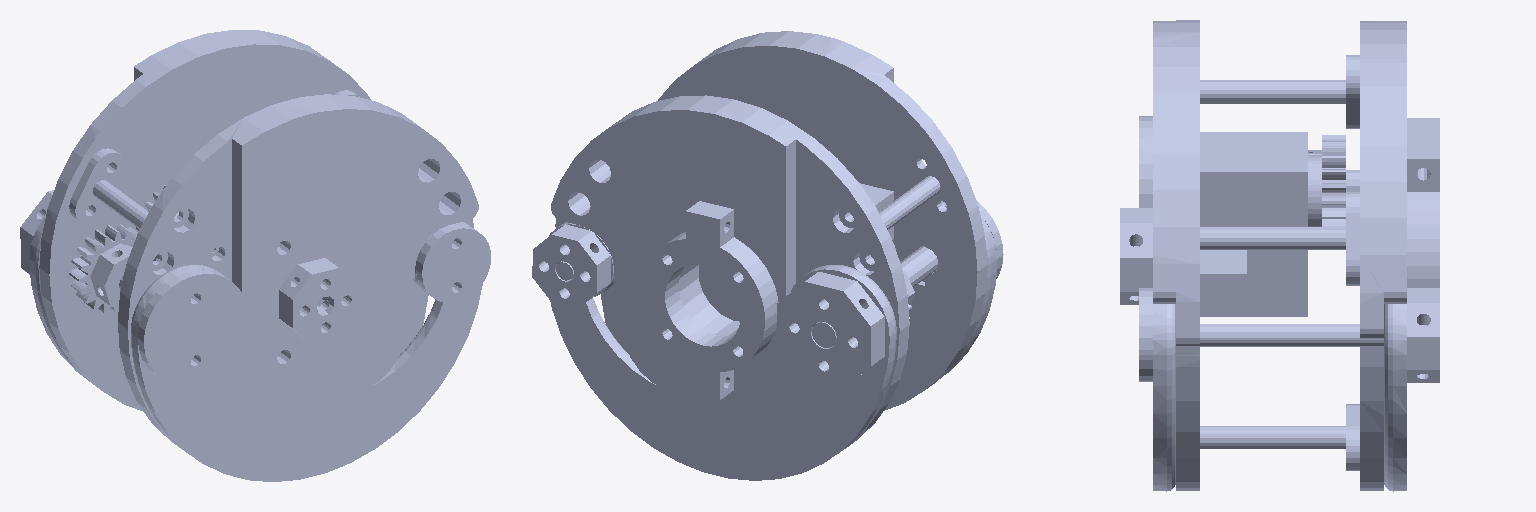
robot.urdf — urdf:
<?xml version="1.0" encoding="utf-8"?>
<!-- This URDF was automatically created by SolidWorks to URDF Exporter! Originally created by [author] ([email redacted]) 
     Commit Version: 1.6.0-1-g15f4949  Build Version: 1.6.7594.29634
     For more information, please see http://wiki.ros.org/sw_urdf_exporter -->
<robot
  name="urdf">
  <link
    name="base_link">
    <inertial>
      <origin
        xyz="-0.0097595 0.033786 0.099879"
        rpy="0 0 0" />
      <mass
        value="0.13094" />
      <inertia
        ixx="6.9183E-05"
        ixy="-5.7527E-06"
        ixz="2.8061E-08"
        iyy="5.3595E-05"
        iyz="6.399E-10"
        izz="0.00011919" />
    </inertial>
    <visual>
      <origin
        xyz="0 0 0"
        rpy="0 0 0" />
      <geometry>
        <mesh
          filename="package://urdf/meshes/base_link.STL" />
      </geometry>
      <material
        name="">
        <color
          rgba="0.79216 0.81961 0.93333 1" />
      </material>
    </visual>
    <collision>
      <origin
        xyz="0 0 0"
        rpy="0 0 0" />
      <geometry>
        <mesh
          filename="package://urdf/meshes/base_link.STL" />
      </geometry>
    </collision>
  </link>
  <link
    name="Link_1">
    <inertial>
      <origin
        xyz="0.025329 -0.015995 0.031734"
        rpy="0 0 0" />
      <mass
        value="0.042806" />
      <inertia
        ixx="1.1775E-05"
        ixy="3.2458E-06"
        ixz="6.0693E-15"
        iyy="2.7756E-05"
        iyz="-5.2035E-15"
        izz="3.3805E-05" />
    </inertial>
    <visual>
      <origin
        xyz="0 0 0"
        rpy="0 0 0" />
      <geometry>
        <mesh
          filename="package://urdf/meshes/Link_1.STL" />
      </geometry>
      <material
        name="">
        <color
          rgba="0.79216 0.81961 0.93333 1" />
      </material>
    </visual>
    <collision>
      <origin
        xyz="0 0 0"
        rpy="0 0 0" />
      <geometry>
        <mesh
          filename="package://urdf/meshes/Link_1.STL" />
      </geometry>
    </collision>
  </link>
  <joint
    name="joint_1"
    type="revolute">
    <origin
      xyz="-0.043961 -0.066001 0.02941"
      rpy="1.5708 -0.063528 0" />
    <parent
      link="base_link" />
    <child
      link="Link_1" />
    <axis
      xyz="0 0 1" />
    <limit
      lower="-1.57"
      upper="1.57"
      effort="1"
      velocity="1" />
  </joint>
</robot>

--- Render facts (derived) ---
The picture shows the robot from 3 angles, left to right: view 1: azimuth 30°, elevation 25°; view 2: azimuth 150°, elevation 25°; view 3: azimuth 270°, elevation 25°; orthographic projection.
Model urdf with 2 links and 1 joints (1 revolute), rooted at base_link, posed every joint at zero.
Visible links, largest first — view 1: base_link, Link_1; view 2: base_link, Link_1; view 3: base_link, Link_1.
Link boxes in pixels (<box>): base_link: <box>39,30,478,449</box>; Link_1: <box>20,190,490,481</box>; base_link: <box>551,31,987,448</box>; Link_1: <box>532,200,1003,480</box>; base_link: <box>1120,20,1439,490</box>; Link_1: <box>1139,116,1439,491</box>.
Bounding box of the posed robot: 0.1 × 0.068 × 0.1 m (x, y, z).
2 mesh visuals loaded from 2 distinct referenced files (2 binary STL).